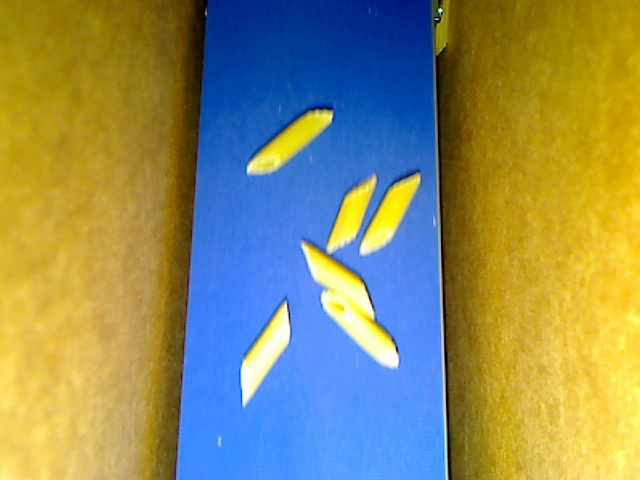penne: (299, 238, 379, 321), (319, 292, 398, 371), (245, 106, 334, 173), (240, 295, 292, 406), (359, 171, 425, 257), (322, 169, 375, 256), (428, 1, 453, 51)
